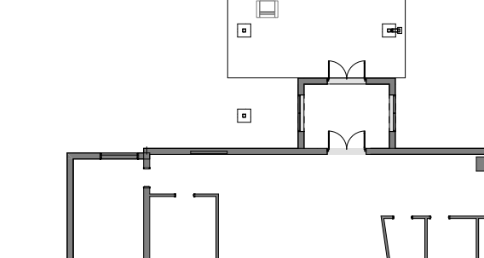double door: (326, 57, 367, 81), (326, 127, 368, 150)
wall: (63, 150, 78, 258), (226, 145, 330, 159), (363, 146, 484, 157), (141, 184, 153, 258), (62, 149, 102, 165), (139, 146, 191, 158), (378, 214, 391, 258), (213, 195, 222, 258), (363, 75, 398, 88), (473, 217, 482, 258), (295, 75, 328, 86), (447, 212, 484, 221), (293, 130, 308, 151), (385, 131, 400, 147), (473, 153, 484, 174), (148, 192, 175, 200), (373, 213, 396, 222), (193, 191, 219, 198), (410, 214, 434, 221)
window: (100, 149, 140, 165), (295, 92, 310, 132), (186, 146, 232, 158), (387, 92, 400, 133)
